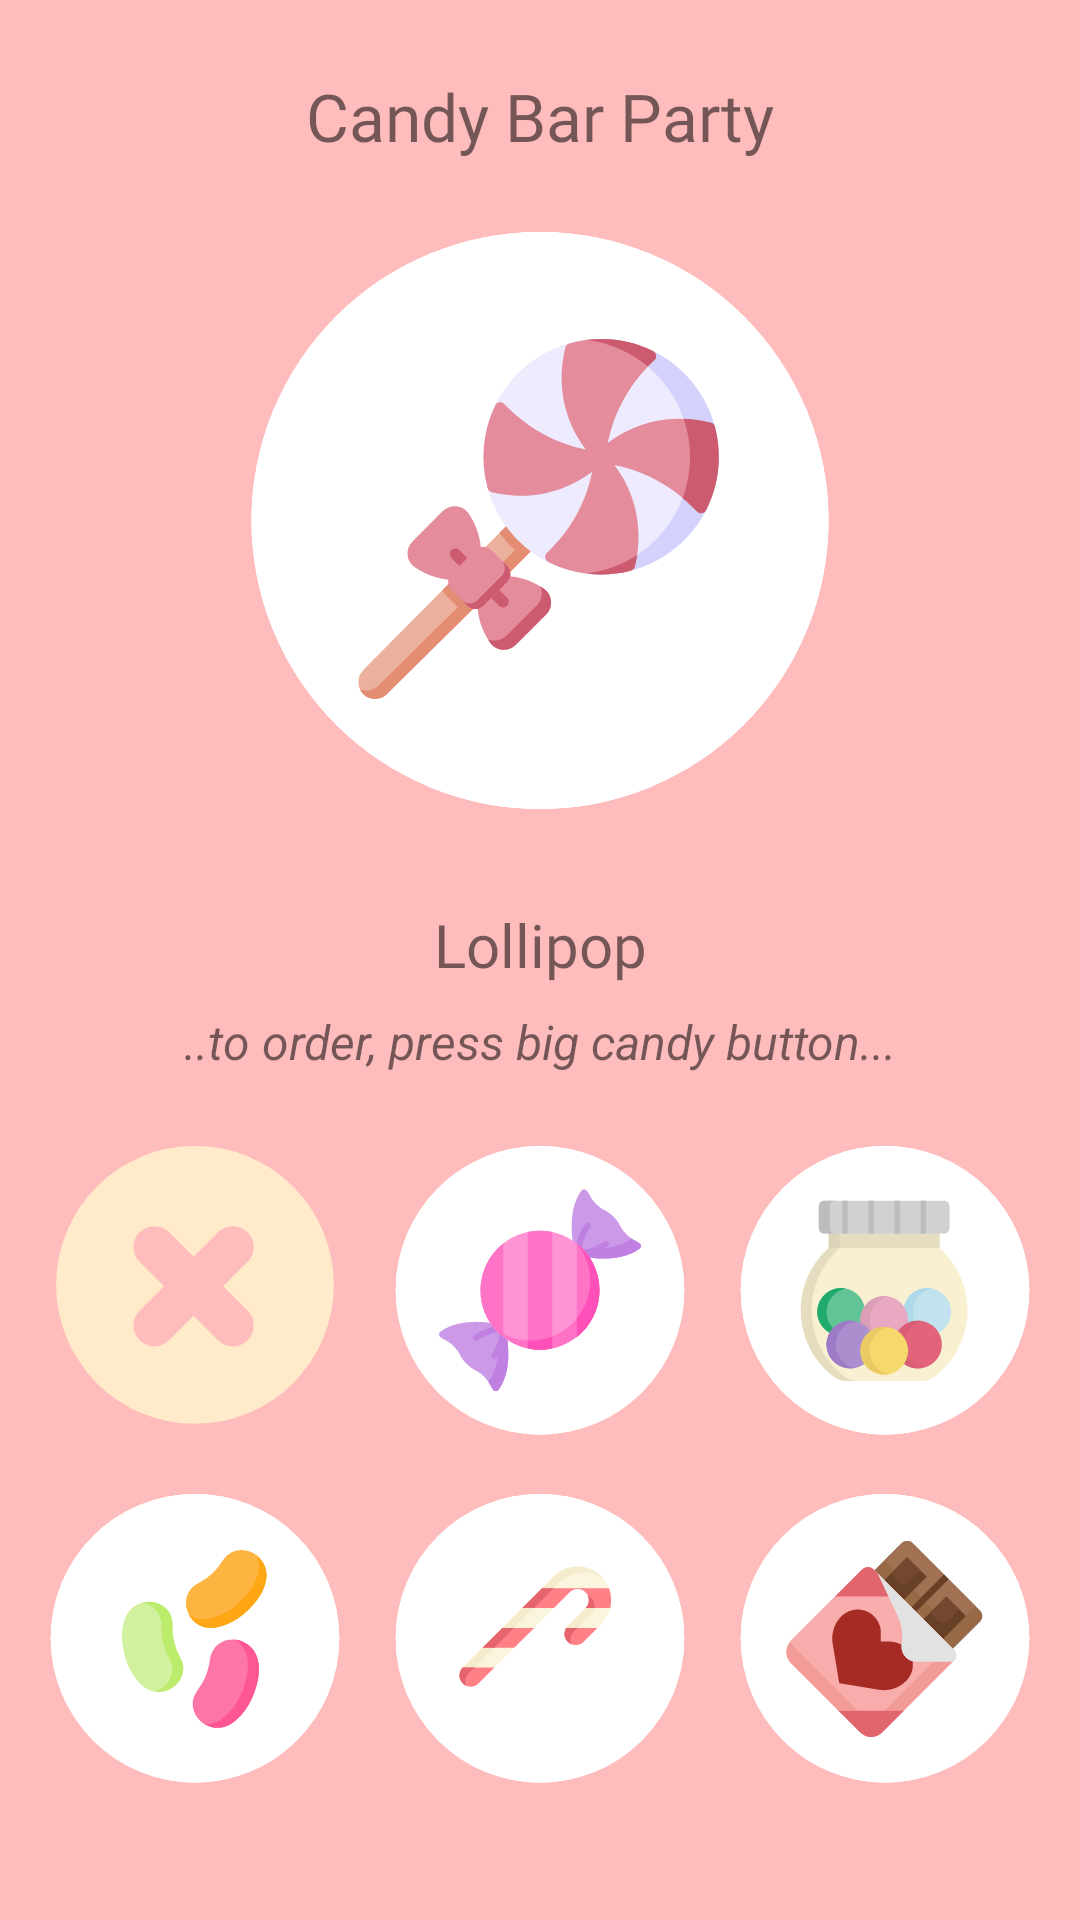

Named icons in this screenshot (1080*1920) and their bounding boxes, detection(x1, y1, x2, y2):
Chocolate: detection(740, 1494, 1030, 1783)
Gum: detection(740, 1146, 1030, 1435)
Jelly: detection(50, 1494, 340, 1783)
